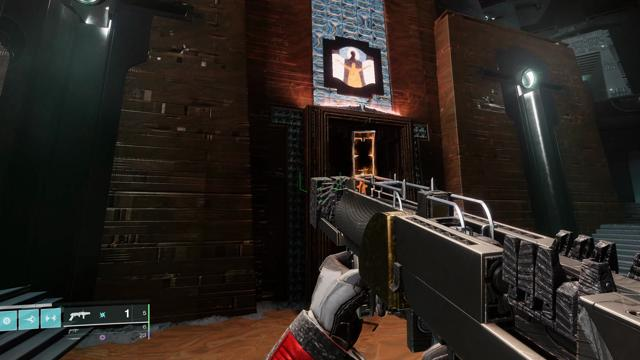worship: (332, 47, 376, 88)
